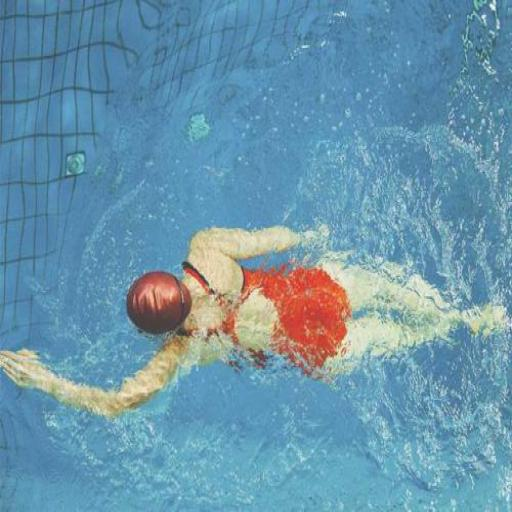swimming: (0, 220, 511, 422)
